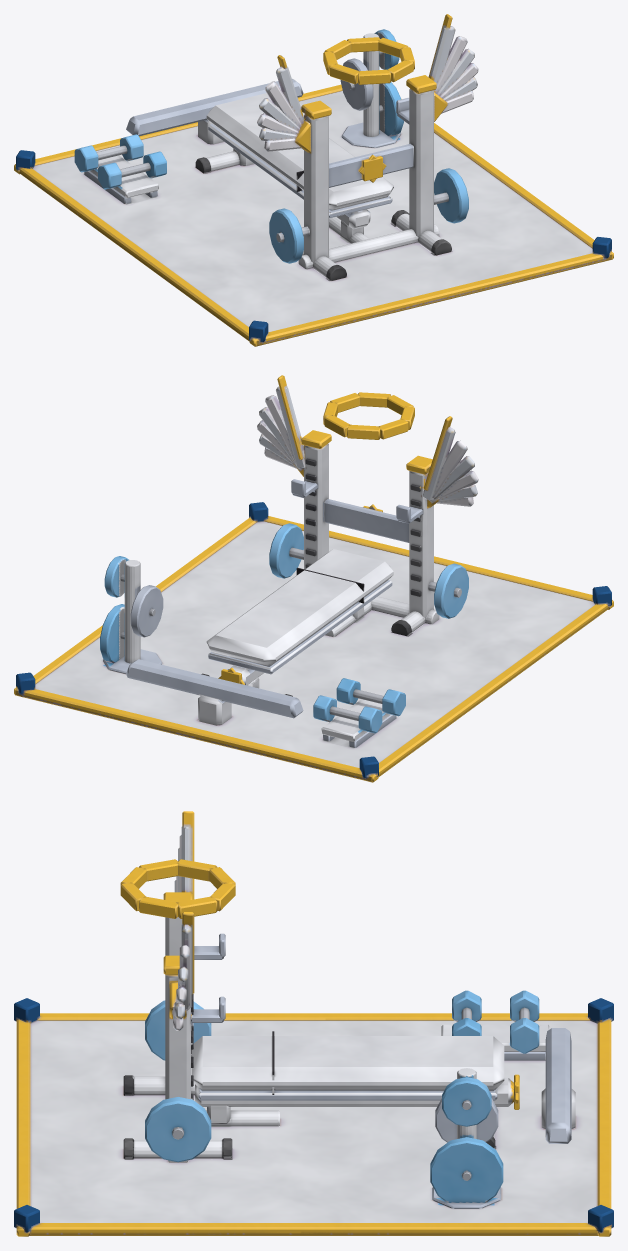
The model's file is Bench_Celeste_Rig.fbx.
3 views of the same model, one above another, from view 1: azimuth 30°, elevation 25°; view 2: azimuth 150°, elevation 25°; view 3: azimuth 270°, elevation 25° (orthographic). The views are drawn at different scales.
Visible parts, largest first — view 1: Decor, Rack, Weights, Bench; view 2: Decor, Rack, Weights, Bench; view 3: Decor, Bench, Weights, Rack.
Part boxes in pixels (box(x1,y1,x2,y2)): Decor: box(14, 14, 613, 346); Rack: box(269, 75, 468, 280); Weights: box(74, 29, 403, 203); Bench: box(195, 93, 393, 229); Decor: box(14, 375, 613, 782); Rack: box(269, 430, 468, 636); Weights: box(100, 556, 405, 747); Bench: box(201, 549, 393, 696); Decor: box(14, 811, 613, 1236); Bench: box(191, 1031, 519, 1148); Weights: box(430, 990, 575, 1208); Rack: box(123, 892, 279, 1162).
Size of the model in its own units: 10.42 by 6 by 12.14.
1 material, 1 textured.
